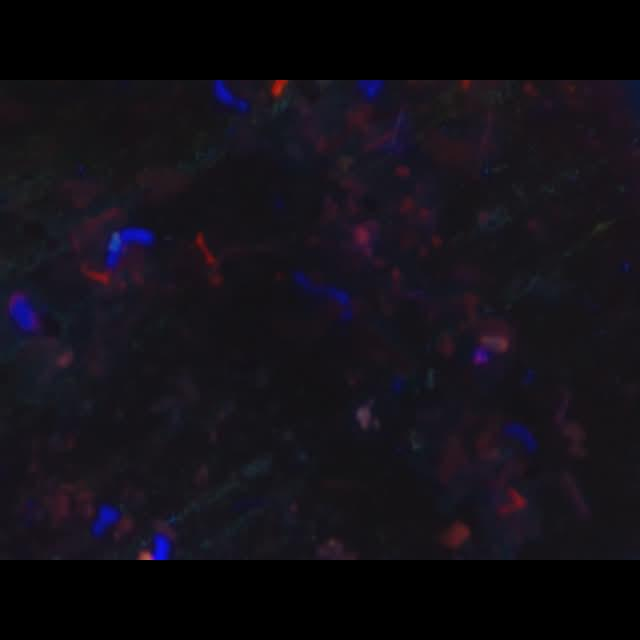Fibre: (194, 231, 224, 287)
